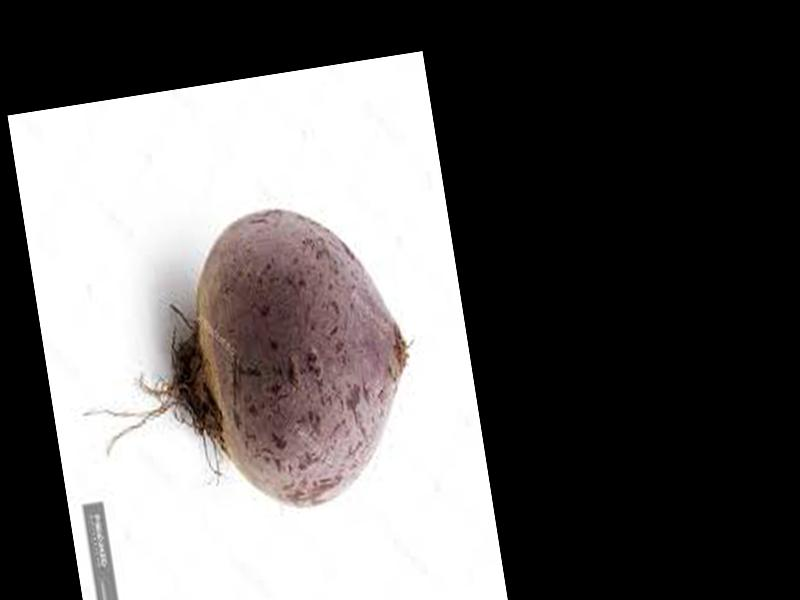Beet: (55, 190, 431, 542)
